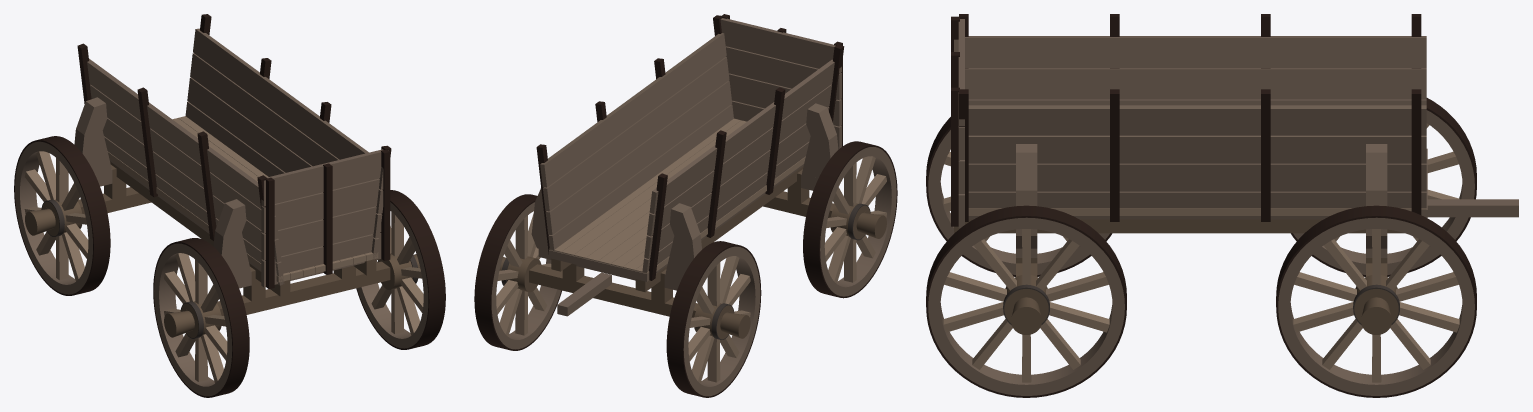
3 views of the same model, side by side, from view 1: azimuth 30°, elevation 25°; view 2: azimuth 150°, elevation 25°; view 3: azimuth 270°, elevation 25° (orthographic). The views are drawn at different scales.
Visible parts, largest first — view 1: plank.007, plank.003, plank.006, wood_rim.002, wood_rim, iron_tire, iron_tire.002, plank.005, plank.002, iron_tire.001, end_plank.003, end_plank.002 (+44 smaller); view 2: plank.007, plank.006, plank.005, plank.003, wood_rim, wood_rim.002, iron_tire, iron_tire.002, plank.004, end_plank.003, iron_tire.003, plank.002 (+51 smaller); view 3: plank.003, plank.002, plank.007, plank.006, plank.005, wood_rim.001, wood_rim.003, plank.004, iron_tire.001, iron_tire.003, runner.002, plank.001 (+34 smaller).
Boxes of the visible parts, bbox=[...] form: plank.007: bbox=[193, 28, 383, 189]; plank.003: bbox=[87, 58, 275, 215]; plank.006: bbox=[190, 53, 383, 213]; wood_rim.002: bbox=[15, 141, 92, 294]; wood_rim: bbox=[154, 243, 232, 396]; iron_tire: bbox=[153, 238, 249, 397]; iron_tire.002: bbox=[14, 136, 110, 295]; plank.005: bbox=[187, 77, 382, 238]; plank.002: bbox=[90, 84, 278, 239]; iron_tire.001: bbox=[356, 190, 445, 349]; end_plank.003: bbox=[261, 149, 388, 206]; end_plank.002: bbox=[261, 178, 379, 233]; plank.007: bbox=[540, 33, 726, 187]; plank.006: bbox=[543, 57, 729, 211]; plank.005: bbox=[545, 80, 732, 234]; plank.003: bbox=[649, 59, 834, 213]; wood_rim: bbox=[820, 147, 896, 296]; wood_rim.002: bbox=[683, 246, 760, 396]; iron_tire: bbox=[803, 141, 897, 298]; iron_tire.002: bbox=[666, 241, 761, 397]; plank.004: bbox=[548, 104, 733, 250]; end_plank.003: bbox=[720, 18, 841, 73]; iron_tire.003: bbox=[474, 194, 561, 350]; plank.002: bbox=[647, 84, 831, 236]; plank.003: bbox=[954, 36, 1426, 67]; plank.002: bbox=[965, 68, 1426, 99]; plank.007: bbox=[968, 105, 1426, 135]; plank.006: bbox=[968, 135, 1426, 163]; plank.005: bbox=[968, 163, 1426, 191]; wood_rim.001: bbox=[928, 217, 1124, 395]; wood_rim.003: bbox=[1278, 217, 1474, 395]; plank.004: bbox=[968, 191, 1426, 219]; iron_tire.001: bbox=[926, 205, 1126, 397]; iron_tire.003: bbox=[1276, 205, 1476, 397]; runner.002: bbox=[954, 219, 1403, 233]; plank.001: bbox=[968, 99, 1426, 105].
Bounding box in the file's own units: 1.86 × 1.53 × 2.93.
